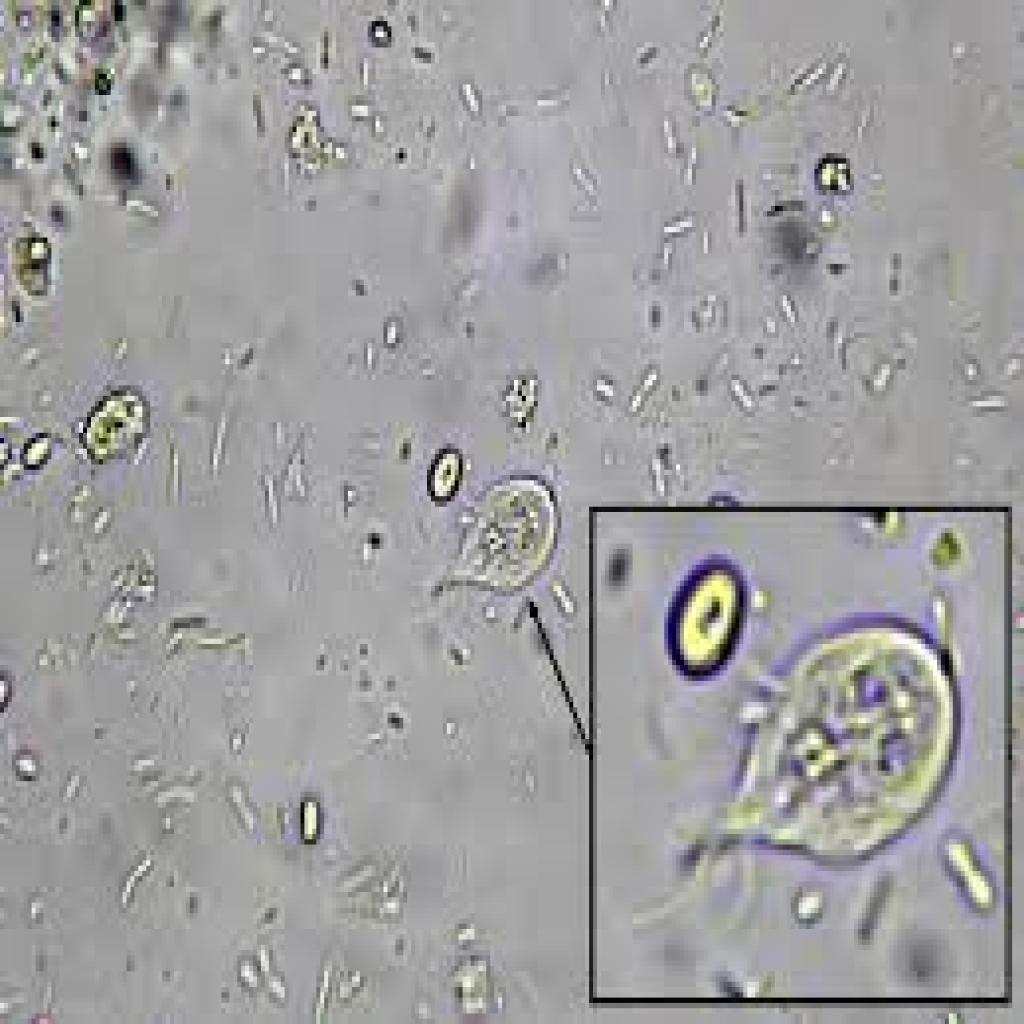Giardia: (672, 618, 961, 902), (435, 470, 561, 602)
